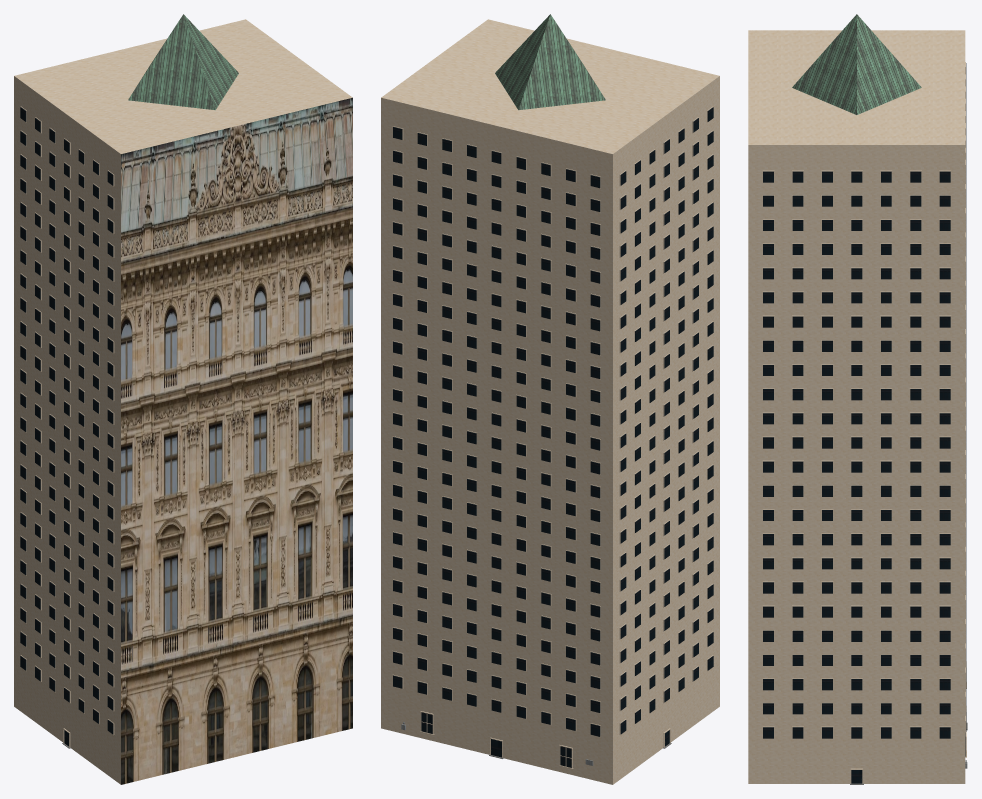
The model's file is ledger-tower_lod0.gltf.
3 renders of one model, left to right at view 1: azimuth 30°, elevation 25°; view 2: azimuth 150°, elevation 25°; view 3: azimuth 270°, elevation 25°, orthographic.
Visible parts, largest first — view 1: ledger-tower_front, ledger-tower_tier0, ledger-tower_fen_07-glass-curtain-blue_1_t, ledger-tower_crown, ledger-tower_fen_04-limestone_0; view 2: ledger-tower_tier0, ledger-tower_fen_07-glass-curtain-blue_1_t, ledger-tower_fen_04-limestone_0, ledger-tower_crown; view 3: ledger-tower_tier0, ledger-tower_fen_07-glass-curtain-blue_1_t, ledger-tower_fen_04-limestone_0, ledger-tower_crown.
Boxes of the visible parts, <box> form: ledger-tower_front: <box>121,97,352,784</box>; ledger-tower_tier0: <box>14,19,352,784</box>; ledger-tower_fen_07-glass-curtain-blue_1_t: <box>20,107,113,746</box>; ledger-tower_crown: <box>128,14,238,110</box>; ledger-tower_fen_04-limestone_0: <box>20,106,114,747</box>; ledger-tower_tier0: <box>381,19,719,784</box>; ledger-tower_fen_07-glass-curtain-blue_1_t: <box>393,107,713,767</box>; ledger-tower_fen_04-limestone_0: <box>392,106,713,768</box>; ledger-tower_crown: <box>495,14,605,110</box>; ledger-tower_tier0: <box>748,30,965,783</box>; ledger-tower_fen_07-glass-curtain-blue_1_t: <box>763,63,966,783</box>; ledger-tower_fen_04-limestone_0: <box>762,62,966,783</box>; ledger-tower_crown: <box>792,14,921,114</box>.
Size of the model in its own units: 50.8 by 145 by 40.4.
